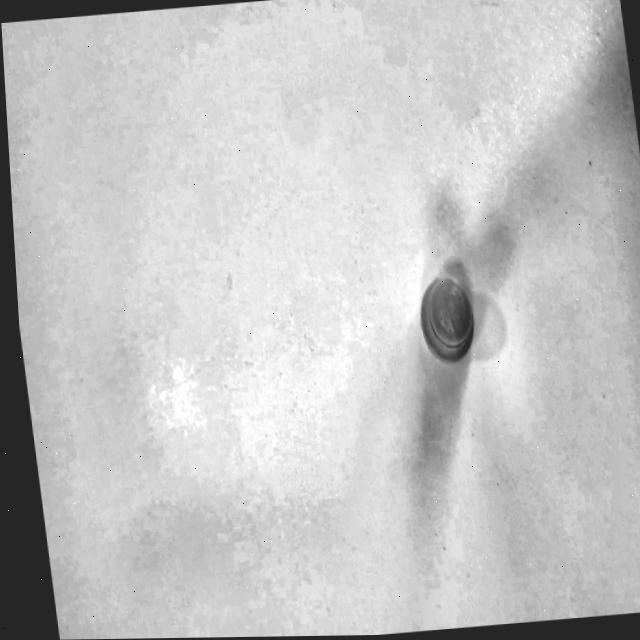white-pawn: (400, 228, 502, 377)
